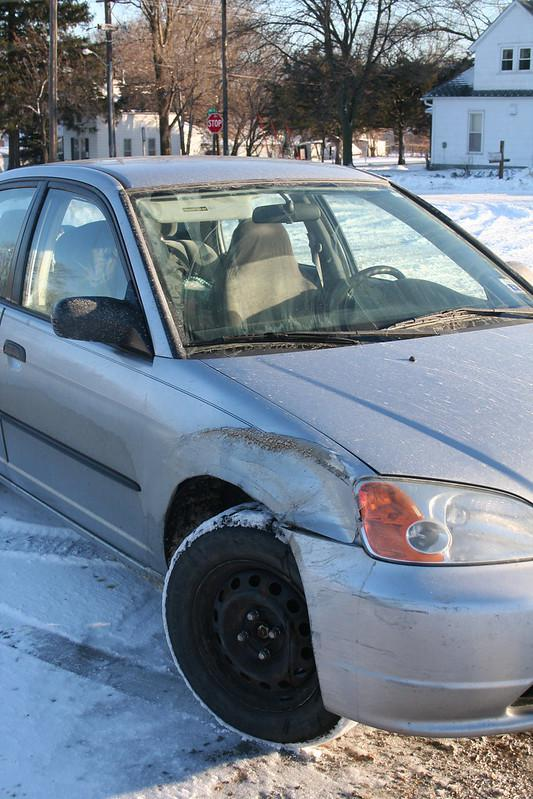fender-dent: (136, 374, 358, 538)
